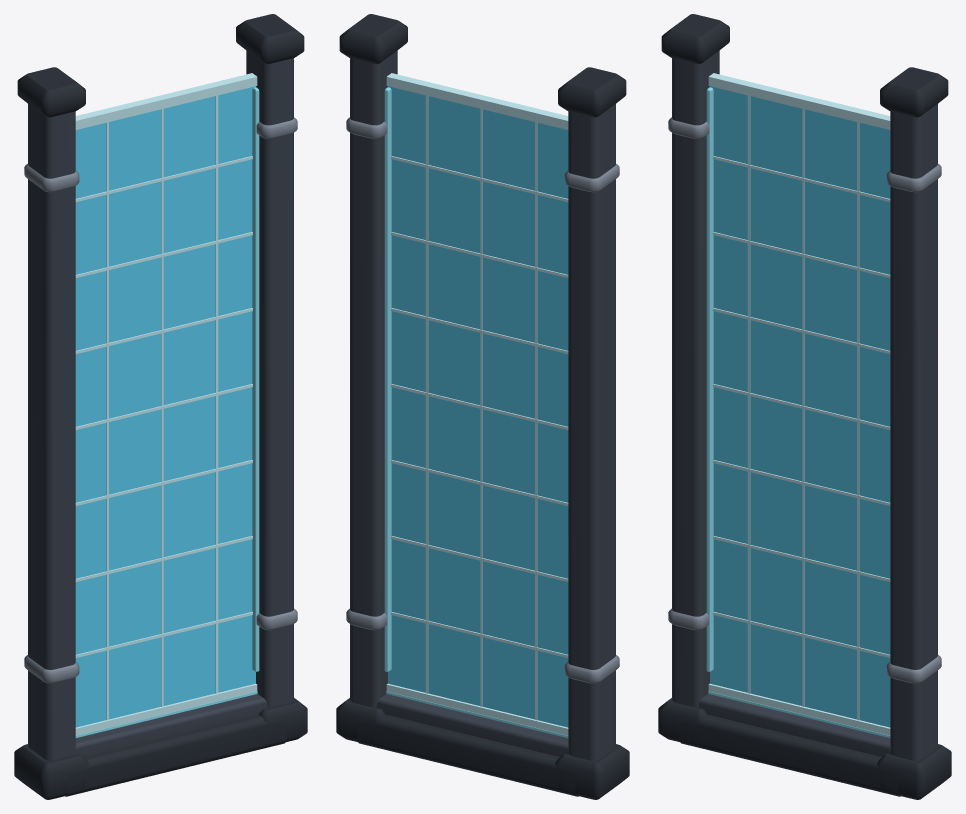
Rendered from barriere_holographique.glb.
3 renders of one model, left to right at view 1: azimuth 30°, elevation 25°; view 2: azimuth 150°, elevation 25°; view 3: azimuth 330°, elevation 25°, orthographic.
Parts seen in each view (by area): view 1: holo_mur_holo_cyan.002, poteau_g_emetteur.002, poteau_d_emetteur.002, holo_mur_holo_clair.002, barriere_emetteur_bord.002, poteau_g_emetteur_bord.002, poteau_d_lentille.002, barriere_emetteur.002, poteau_d_emetteur_bord.002, poteau_g_emetteur_clair.002, poteau_d_emetteur_clair.002, barriere_lentille.002; view 2: holo_mur_holo_cyan.002, poteau_g_emetteur.002, poteau_d_emetteur.002, holo_mur_holo_clair.002, barriere_emetteur_bord.002, poteau_g_emetteur_bord.002, poteau_d_lentille.002, barriere_emetteur.002, poteau_d_emetteur_bord.002, poteau_g_emetteur_clair.002, poteau_d_emetteur_clair.002, barriere_lentille.002; view 3: holo_mur_holo_cyan.002, poteau_d_emetteur.002, poteau_g_emetteur.002, holo_mur_holo_clair.002, barriere_emetteur_bord.002, poteau_d_emetteur_bord.002, poteau_g_lentille.002, barriere_emetteur.002, poteau_g_emetteur_bord.002, poteau_d_emetteur_clair.002, poteau_g_emetteur_clair.002, barriere_lentille.002.
Boxes of the visible parts, x1,y1,x2,y2 form: holo_mur_holo_cyan.002: (75, 86, 255, 727); poteau_g_emetteur.002: (28, 104, 75, 760); poteau_d_emetteur.002: (246, 50, 293, 707); holo_mur_holo_clair.002: (75, 73, 257, 735); barriere_emetteur_bord.002: (64, 714, 286, 796); poteau_g_emetteur_bord.002: (14, 67, 88, 799); poteau_d_lentille.002: (252, 87, 259, 671); barriere_emetteur.002: (74, 694, 268, 756); poteau_d_emetteur_bord.002: (236, 14, 307, 742); poteau_g_emetteur_clair.002: (24, 164, 79, 683); poteau_d_emetteur_clair.002: (256, 117, 297, 630); barriere_lentille.002: (75, 691, 257, 737); holo_mur_holo_cyan.002: (388, 86, 568, 727); poteau_g_emetteur.002: (568, 104, 615, 760); poteau_d_emetteur.002: (350, 50, 397, 707); holo_mur_holo_clair.002: (386, 73, 568, 735); barriere_emetteur_bord.002: (357, 714, 579, 796); poteau_g_emetteur_bord.002: (555, 67, 629, 799); poteau_d_lentille.002: (384, 87, 391, 671); barriere_emetteur.002: (375, 694, 569, 756); poteau_d_emetteur_bord.002: (336, 14, 407, 742); poteau_g_emetteur_clair.002: (564, 164, 619, 683); poteau_d_emetteur_clair.002: (346, 117, 387, 630); barriere_lentille.002: (386, 691, 568, 737); holo_mur_holo_cyan.002: (710, 86, 890, 727); poteau_d_emetteur.002: (890, 104, 937, 760); poteau_g_emetteur.002: (672, 50, 719, 707); holo_mur_holo_clair.002: (708, 73, 890, 735); barriere_emetteur_bord.002: (679, 714, 901, 796); poteau_d_emetteur_bord.002: (877, 67, 951, 799); poteau_g_lentille.002: (706, 87, 713, 671); barriere_emetteur.002: (697, 694, 891, 756); poteau_g_emetteur_bord.002: (658, 14, 729, 742); poteau_d_emetteur_clair.002: (886, 164, 941, 683); poteau_g_emetteur_clair.002: (668, 117, 709, 630); barriere_lentille.002: (708, 691, 890, 737).
Size of the model in its own units: 0.61 by 1.55 by 0.13.
